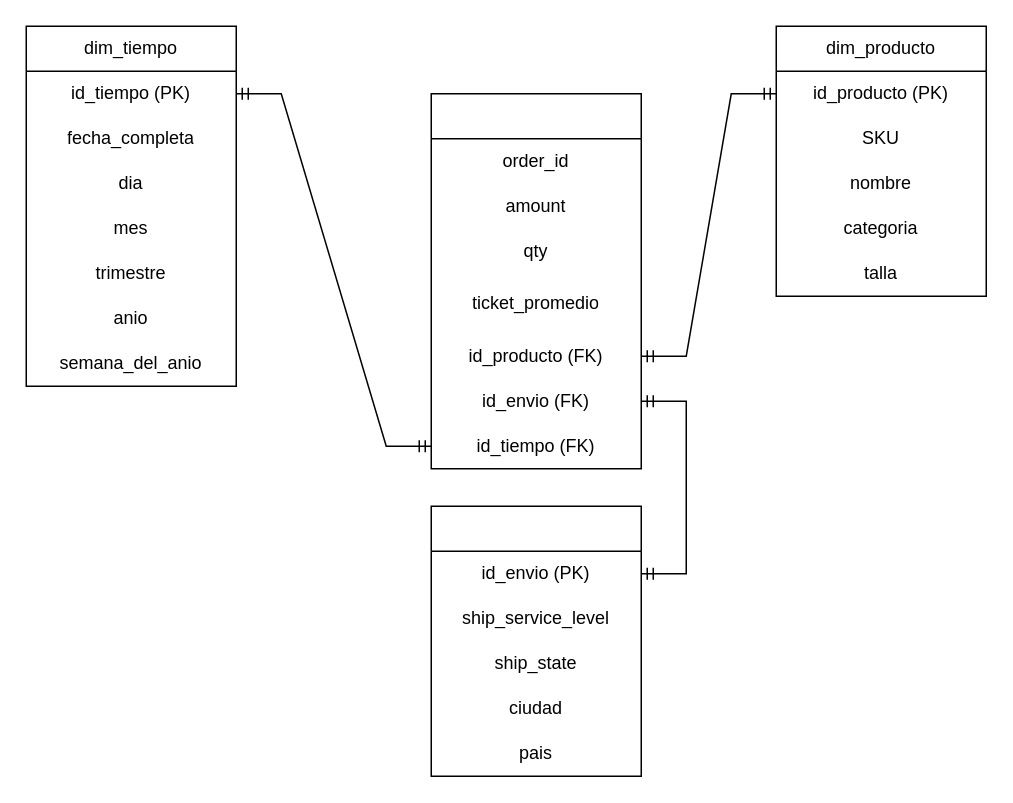
The diagram is 1013 pixels wide and 803 high, and some of its shapes have lost their labels. Each missing label, with the box of its shape:
dim_envio: (430, 505, 641, 776)
Fact_Ventas: (430, 92, 641, 469)
